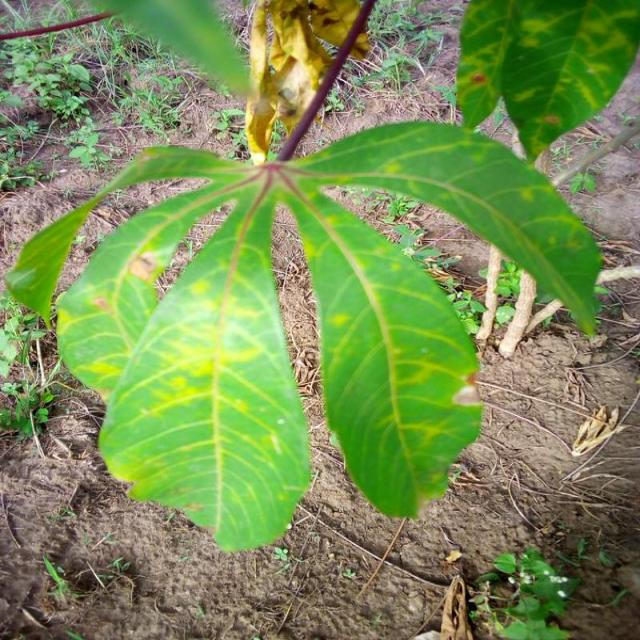cassava leaf: (96, 178, 311, 553), (280, 120, 605, 338), (281, 175, 483, 520), (456, 0, 638, 162)
